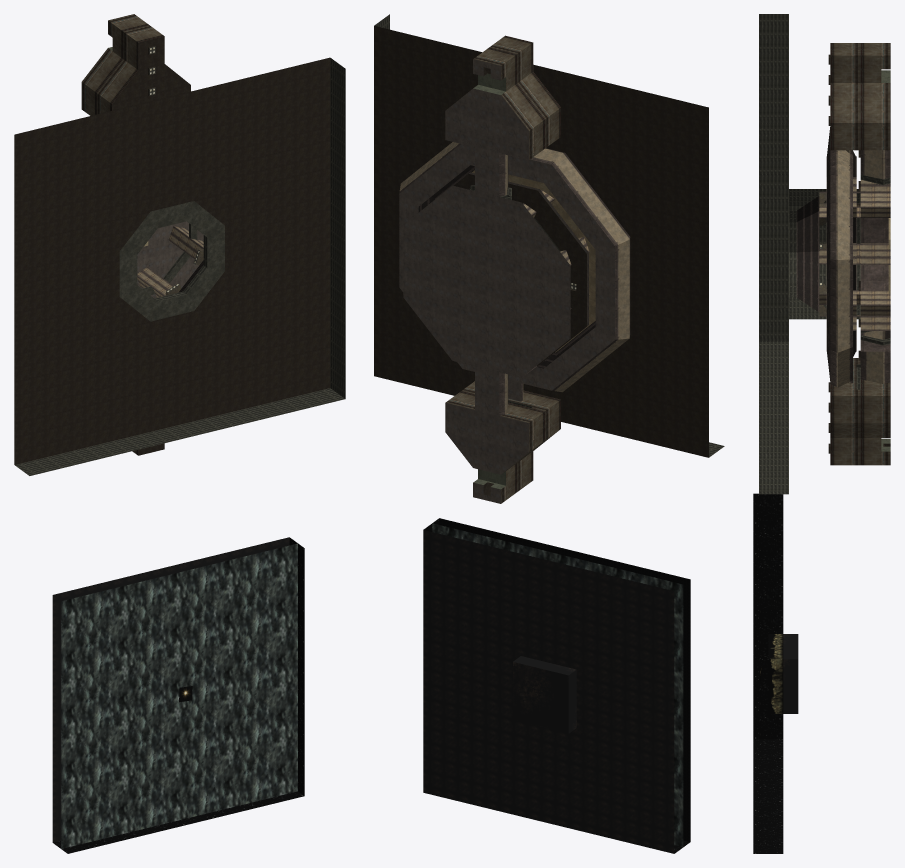
Rendered from DM-Mortis][.obj.
3 views of the same model, side by side, from view 1: azimuth 30°, elevation 25°; view 2: azimuth 150°, elevation 25°; view 3: azimuth 270°, elevation 25° (orthographic). The views are drawn at different scales.
Visible parts, largest first — view 1: DecayedS_Base_Dark1, genfluid_cloud1a, uttech2_Trim_rClfTrm3, uttech2_Base_rClfBsG3, shaneDAY_Dbottm, uttech2_Wall_rClfWl3x, genfluid_Sky_NghSky, uttech2_Floor_rClfFlr1x, uttech2_pillar_rClfPlr1; view 2: shaneDAY_Dbottm, DecayedS_Base_Dark1, uttech2_Floor_rClfFlr1x, uttech2_Wall_rClfWl3x, uttech2_Wall_rClfWl1a, genfluid_cloud1a, genfluid_Sky_NghSky, DecayedS_Floor_FLOOR8E, uttech2_Base_rClClgbas1x, uttech2_Floor_rClfFlr9x, uttech2_pillar_rClfPlr3; view 3: uttech2_Trim_rClfTrm3, uttech2_Wall_rClfWl3x, genfluid_Sky_NghSky, uttech2_Wall_rClfWl1a, uttech2_pillar_rClfPlr1, uttech2_pillar_rClfPlr3, uttech2_Wall_rClfWl2, shaneDAY_Dbottm, SKYBox_Lnd_1, SKYBox_Lnd_2, DecayedS_Base_Dark1, DecayedS_Base_Base9dr.
Boxes of the visible parts, bbox=[...] form: DecayedS_Base_Dark1: bbox=[14, 36, 330, 464]; genfluid_cloud1a: bbox=[61, 543, 297, 848]; uttech2_Trim_rClfTrm3: bbox=[15, 58, 345, 475]; uttech2_Base_rClfBsG3: bbox=[119, 201, 224, 321]; shaneDAY_Dbottm: bbox=[52, 537, 289, 842]; uttech2_Wall_rClfWl3x: bbox=[81, 14, 164, 455]; genfluid_Sky_NghSky: bbox=[53, 537, 304, 853]; uttech2_Floor_rClfFlr1x: bbox=[137, 221, 203, 298]; uttech2_pillar_rClfPlr1: bbox=[137, 226, 203, 297]; shaneDAY_Dbottm: bbox=[423, 530, 674, 853]; DecayedS_Base_Dark1: bbox=[374, 26, 708, 495]; uttech2_Floor_rClfFlr1x: bbox=[399, 59, 614, 503]; uttech2_Wall_rClfWl3x: bbox=[445, 35, 560, 503]; uttech2_Wall_rClfWl1a: bbox=[399, 142, 630, 415]; genfluid_cloud1a: bbox=[432, 523, 683, 846]; genfluid_Sky_NghSky: bbox=[423, 518, 690, 853]; DecayedS_Floor_FLOOR8E: bbox=[454, 174, 586, 365]; uttech2_Base_rClClgbas1x: bbox=[472, 170, 595, 352]; uttech2_Floor_rClfFlr9x: bbox=[473, 73, 505, 489]; uttech2_pillar_rClfPlr3: bbox=[418, 165, 595, 368]; uttech2_Trim_rClfTrm3: bbox=[759, 14, 890, 494]; uttech2_Wall_rClfWl3x: bbox=[830, 43, 890, 465]; genfluid_Sky_NghSky: bbox=[753, 493, 783, 853]; uttech2_Wall_rClfWl1a: bbox=[826, 150, 890, 387]; uttech2_pillar_rClfPlr1: bbox=[819, 177, 890, 330]; uttech2_pillar_rClfPlr3: bbox=[796, 127, 855, 380]; uttech2_Wall_rClfWl2: bbox=[860, 218, 890, 351]; shaneDAY_Dbottm: bbox=[783, 634, 798, 713]; SKYBox_Lnd_1: bbox=[768, 659, 783, 686]; SKYBox_Lnd_2: bbox=[768, 686, 783, 713]; DecayedS_Base_Dark1: bbox=[828, 54, 890, 453]; DecayedS_Base_Base9dr: bbox=[819, 193, 826, 315].
Bounding box in the file's own units: 58.52 × 134 × 22.25.
